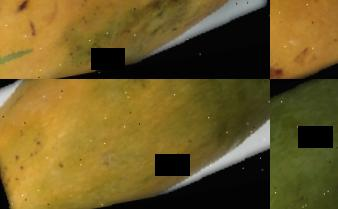PartiallyRipe: (0, 79, 270, 209)
Ripe: (0, 0, 270, 79), (270, 0, 338, 79)
Unripe: (270, 79, 338, 209)
